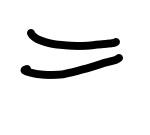eqv: (20, 29, 123, 79)
